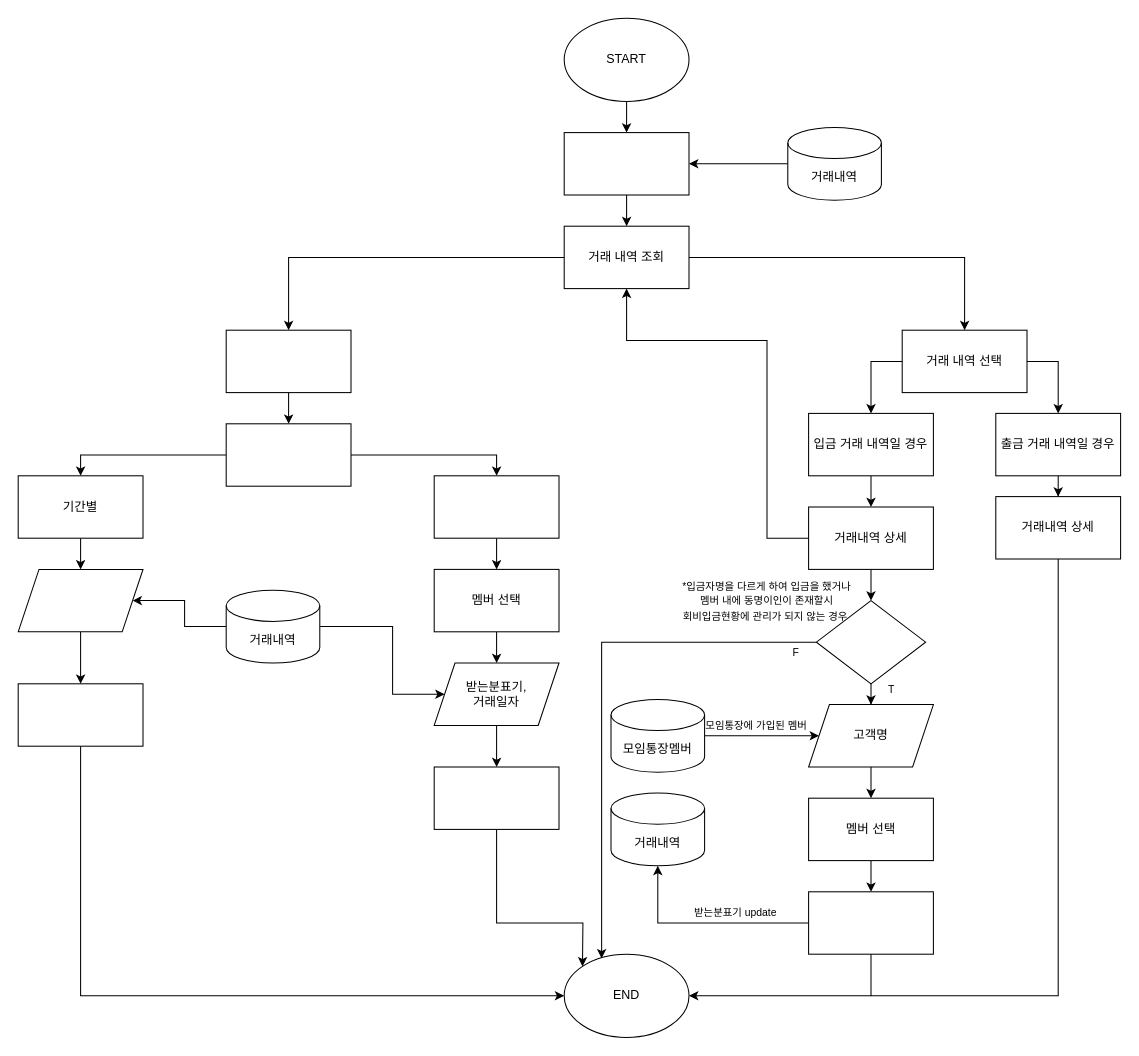
Image size: 1139x1056. Some labels were removed from this diagram. Each missing label, with the centre of its shape:
거래일자: the point at 80,600
년도별/월별 입금 내역 조회: the point at 80,714
멤버별: the point at 496,506
모임통장 계좌 선택: the point at 626,163
모임회비 입금자 변경 선택: the point at 870,642
모임회비 입금자 변경 완료: the point at 870,922
입금자명(받는분표기) 에 따라 월별 입금 내역 조회: the point at 496,797
회비 입금현황: the point at 288,454
회비관리: the point at 288,361
